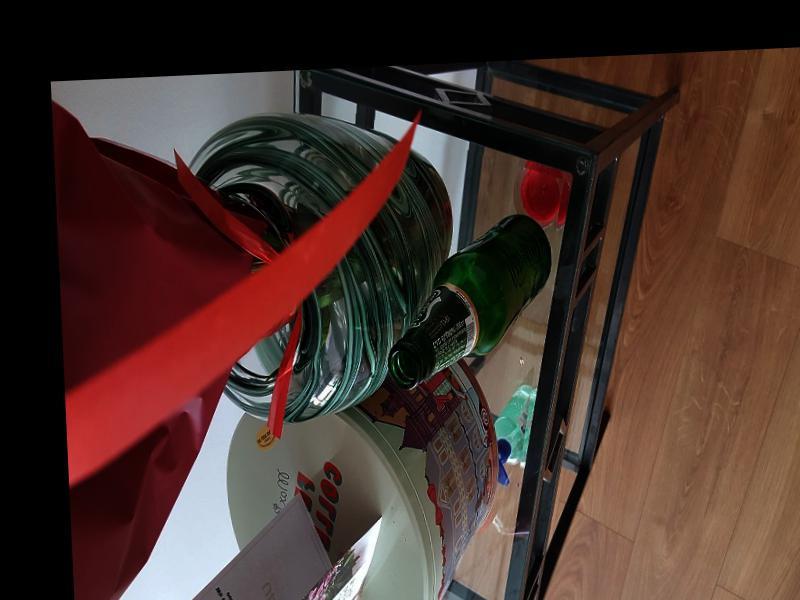Beer: (382, 210, 556, 389)
